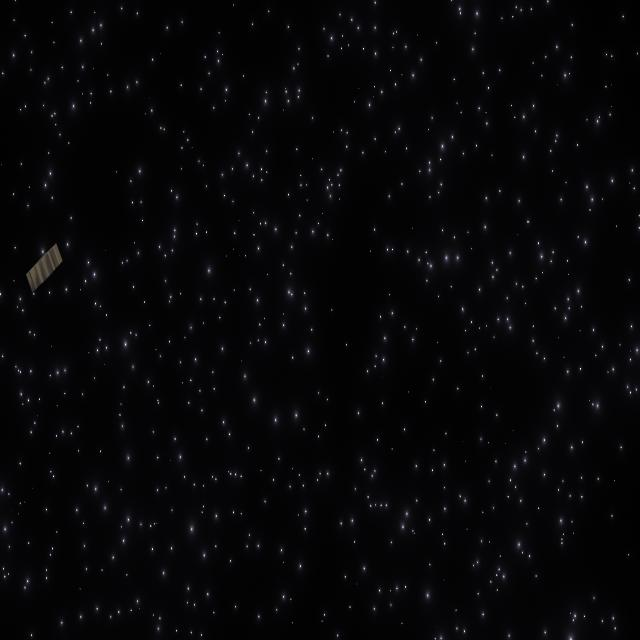large_debris: (24, 235, 65, 302)
